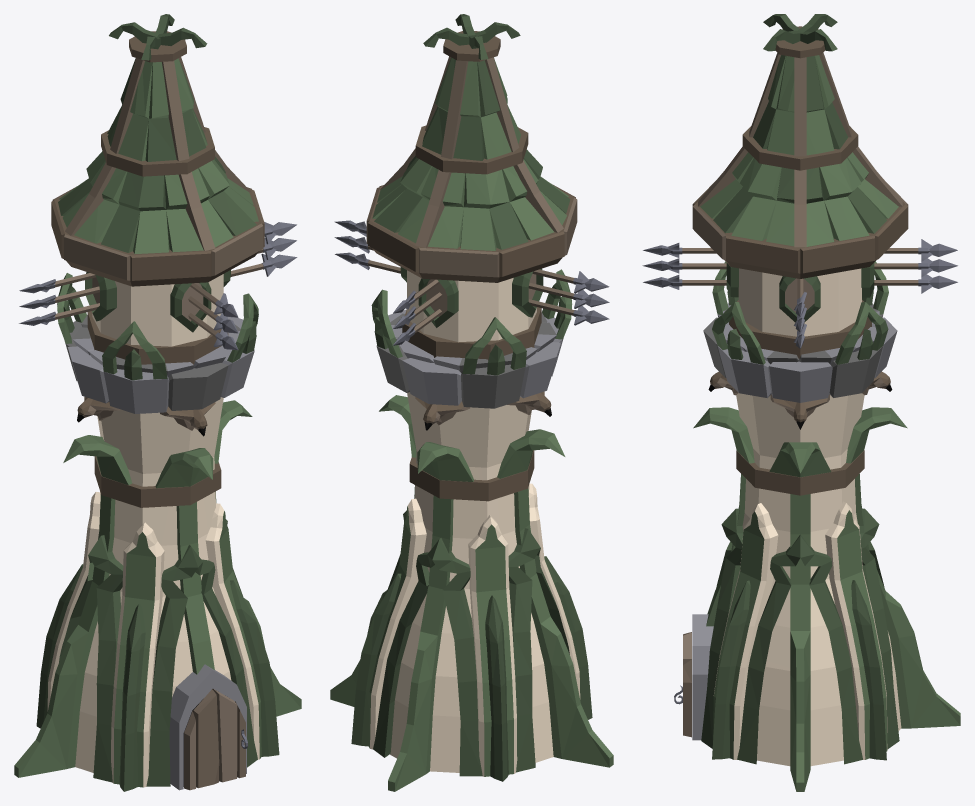
The model's file is Archer Tower 4.obj.
3 views of the same model, side by side, from view 1: azimuth 30°, elevation 25°; view 2: azimuth 150°, elevation 25°; view 3: azimuth 270°, elevation 25° (orthographic).
Parts seen in each view (by area): view 1: archer_tower_LVL_4; view 2: archer_tower_LVL_4; view 3: archer_tower_LVL_4.
Part boxes in pixels (x1=…): archer_tower_LVL_4: x1=14, y1=14, x2=301, y2=791; archer_tower_LVL_4: x1=330, y1=14, x2=613, y2=791; archer_tower_LVL_4: x1=642, y1=14, x2=960, y2=791.
Size of the model in its own units: 6.39 by 15.42 by 6.34.
Materials: 1 (1 with a texture image).
